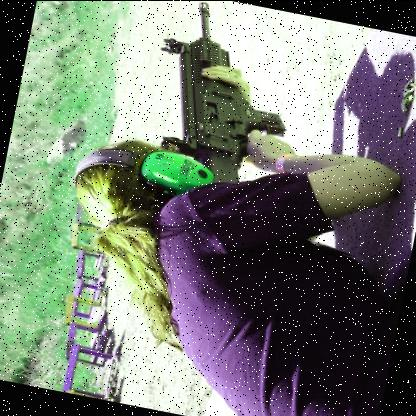rifle: (109, 0, 316, 226)
